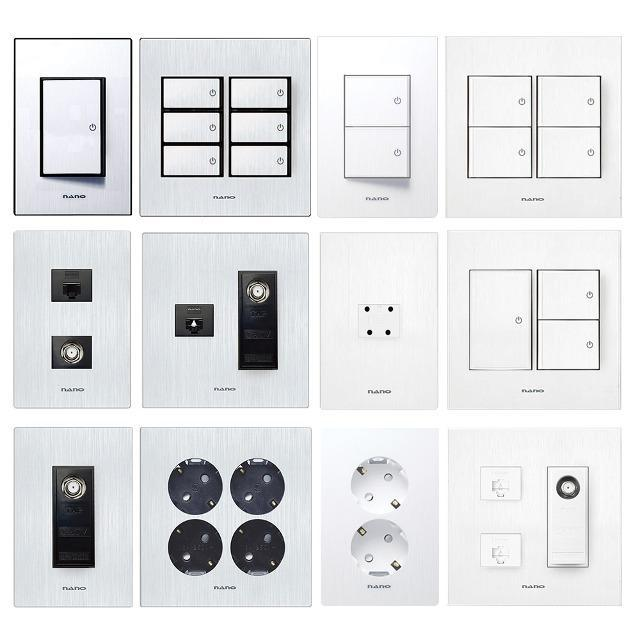typeb: (138, 419, 318, 618), (316, 418, 448, 613)
